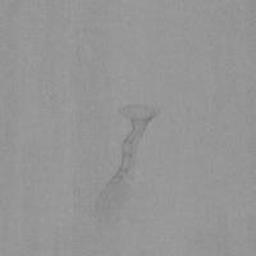Water spot: (95, 101, 161, 234)
